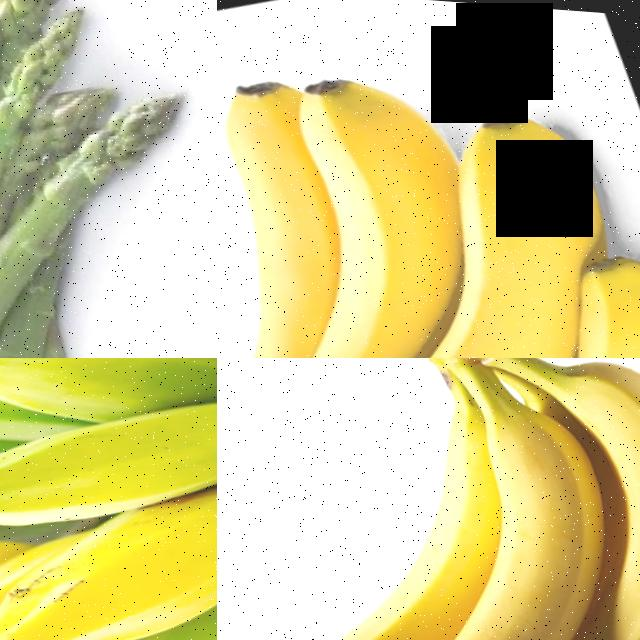asparagus: (0, 0, 217, 300)
banana: (217, 0, 640, 358), (217, 358, 640, 640), (0, 358, 217, 640)
